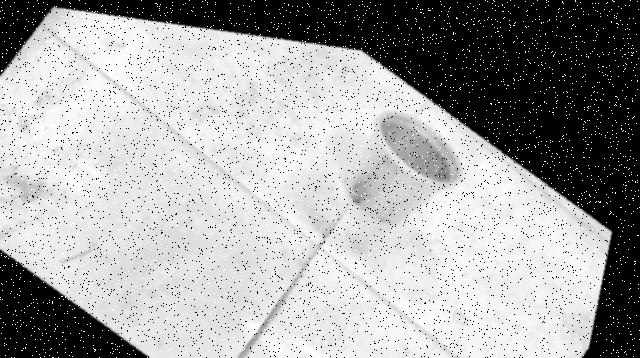pot: (343, 109, 461, 222)
